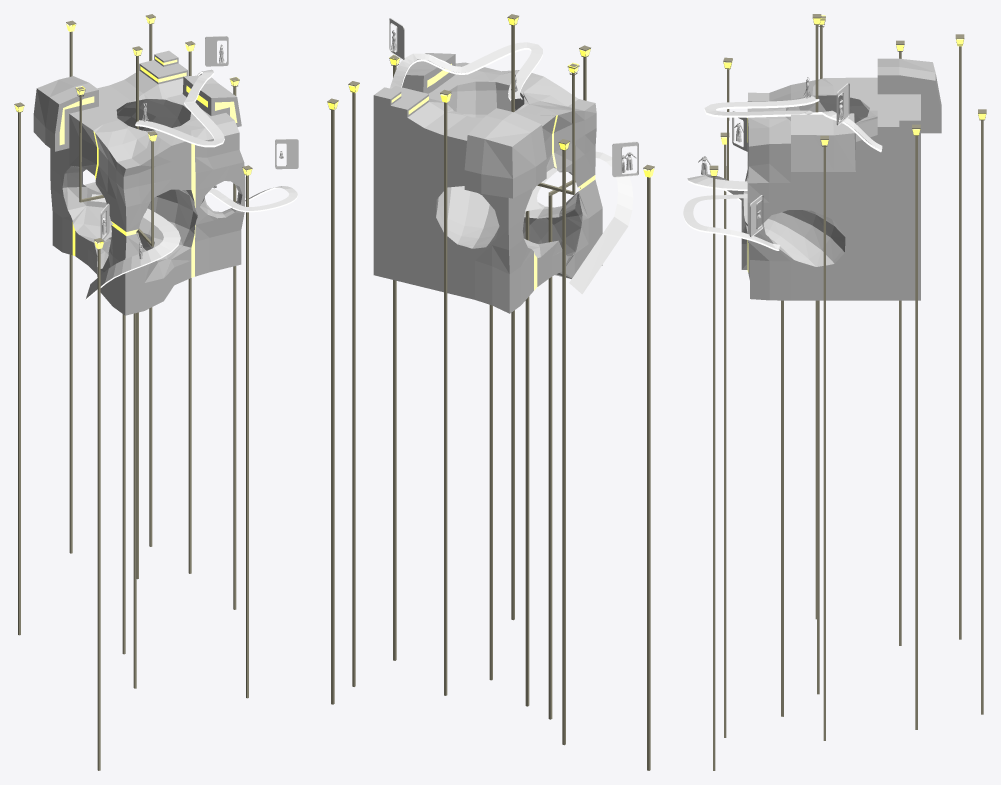
File: WORKSHOP.glb
3 renders of one model, left to right at view 1: azimuth 30°, elevation 25°; view 2: azimuth 150°, elevation 25°; view 3: azimuth 270°, elevation 25°, orthographic. The views are drawn at different scales.
Parts seen in each view (by area): view 1: CUBE, PATH3, L8, L4, L2, CL, L9, L7, L6, L, L1, L3 (+5 smaller); view 2: CUBE, PATH3, L2, L4, L9, L3, L1, L8, L, L5, L6, L7 (+2 smaller); view 3: CUBE, PATH3, L, L6, L3, L1, L7, L8, L5, L4, PL2, L9 (+1 smaller).
Boxes of the visible parts, x1,y1,x2,y2 form: CUBE: (33, 50, 245, 315); PATH3: (86, 69, 297, 298); L8: (94, 238, 104, 770); L4: (133, 131, 157, 688); L2: (75, 87, 125, 654); CL: (59, 56, 237, 277); L9: (14, 102, 24, 635); L7: (242, 165, 252, 698); L6: (230, 77, 239, 609); L: (66, 20, 76, 553); L1: (185, 41, 195, 573); L3: (146, 14, 155, 546); CUBE: (373, 53, 602, 313); PATH3: (390, 42, 633, 294); L2: (525, 63, 579, 706); L4: (548, 45, 590, 719); L9: (558, 139, 569, 745); L3: (327, 98, 338, 704); L1: (348, 81, 359, 686); L8: (643, 164, 654, 770); L: (440, 89, 451, 695); L5: (507, 14, 518, 620); L6: (389, 55, 399, 660); L7: (489, 305, 492, 680); CUBE: (741, 58, 941, 300); PATH3: (683, 96, 882, 249); L: (955, 34, 964, 639); L6: (820, 135, 828, 740); L3: (978, 109, 986, 714); L1: (912, 124, 920, 729); L7: (709, 165, 718, 770); L8: (720, 132, 729, 737); L5: (812, 14, 821, 619); L4: (723, 57, 783, 716); PL2: (683, 99, 881, 250); L9: (896, 40, 904, 645).
Size of the model in its own units: 65.2 by 193 by 69.42.
